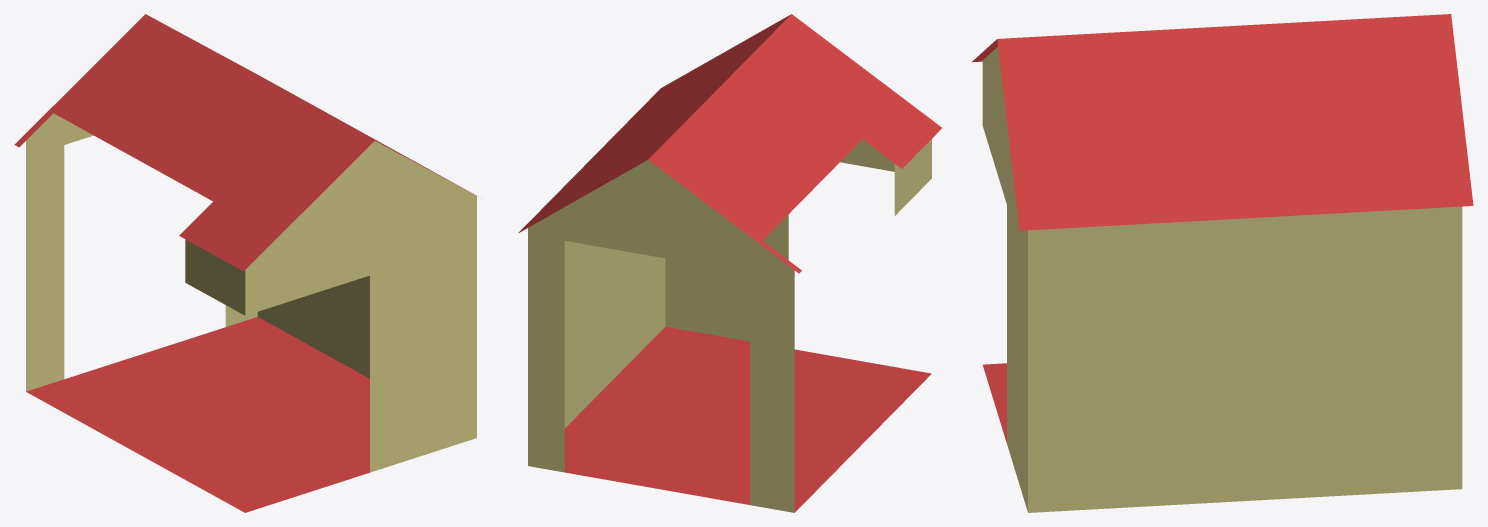
3 views of the same model, side by side, from view 1: azimuth 30°, elevation 25°; view 2: azimuth 150°, elevation 25°; view 3: azimuth 270°, elevation 25° (orthographic). The views are drawn at different scales.
Size of the model in its own units: 10.85 by 12.67 by 11.31.
